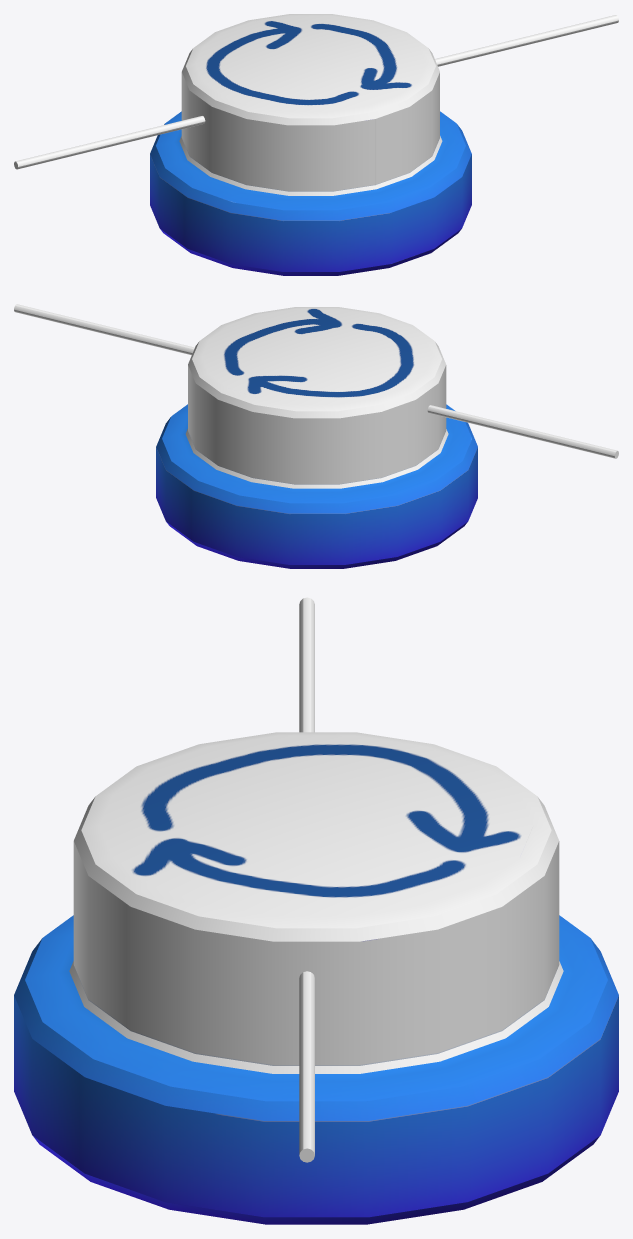
The model's file is Kran.fbx.
The picture shows the model from 3 angles, top to bottom: view 1: azimuth 30°, elevation 25°; view 2: azimuth 150°, elevation 25°; view 3: azimuth 270°, elevation 25°; orthographic projection. The views are drawn at different scales.
Parts seen in each view (by area): view 1: Cylinder.007, Cylinder.008; view 2: Cylinder.007, Cylinder.008; view 3: Cylinder.007, Cylinder.008.
Part boxes in pixels (<box>): Cylinder.007: <box>150,14,471,275</box>; Cylinder.008: <box>14,15,618,169</box>; Cylinder.007: <box>156,307,477,568</box>; Cylinder.008: <box>14,304,618,458</box>; Cylinder.007: <box>14,732,618,1224</box>; Cylinder.008: <box>299,597,314,1162</box>.
Bounding box in the file's own units: 355 × 84.17 × 165.
